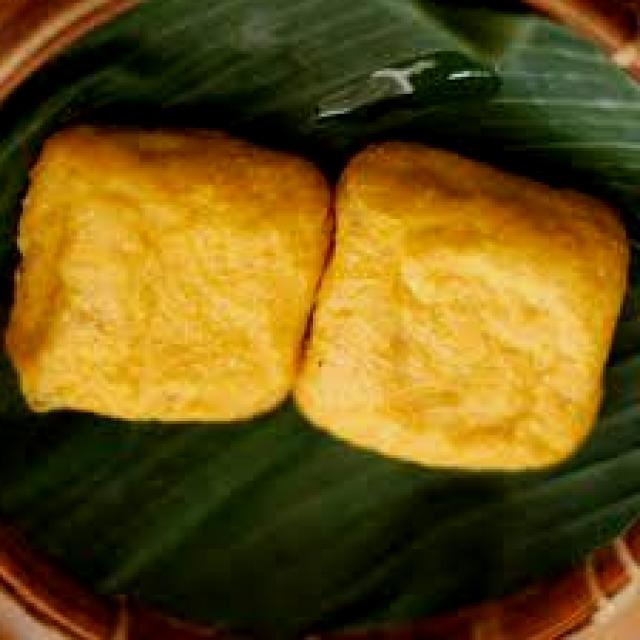tahu goreng: (290, 134, 631, 472), (3, 119, 333, 424)
